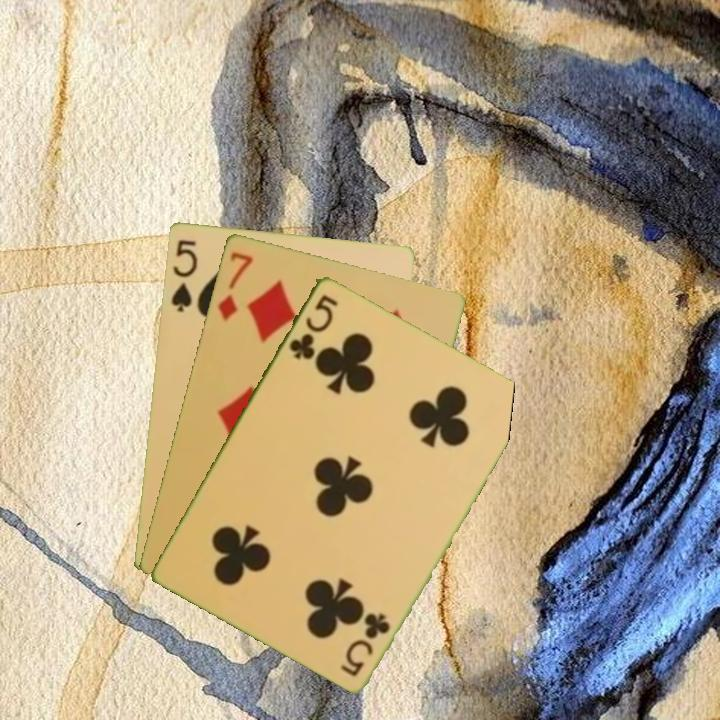5c: (285, 290, 341, 362), (337, 609, 393, 679)
5s: (167, 236, 200, 314)
7d: (214, 248, 256, 323)
